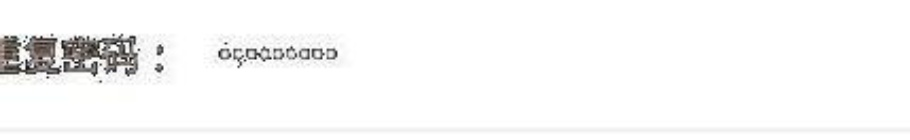EditText: (1, 1, 909, 139)
